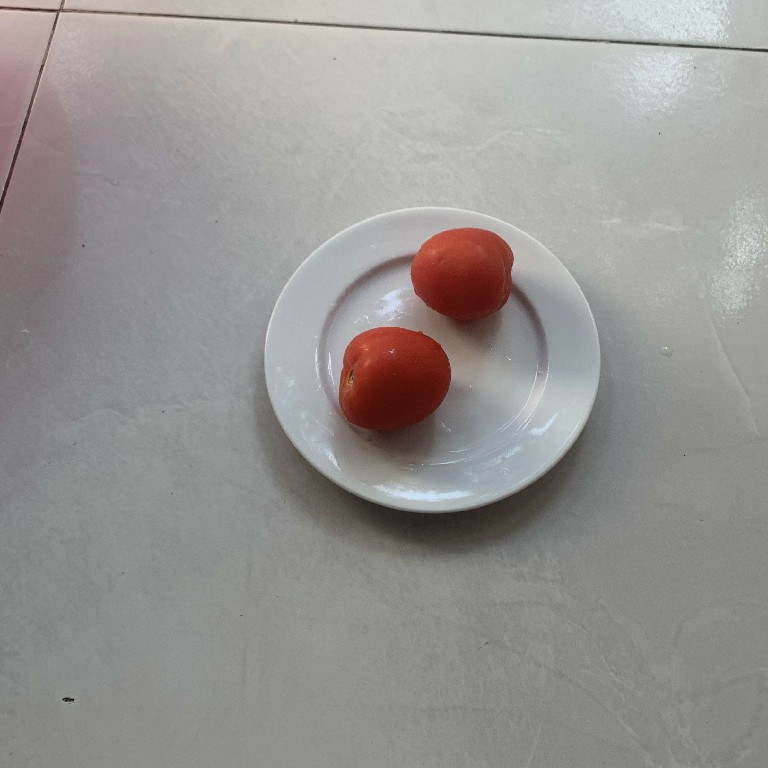OK: (334, 321, 451, 436), (404, 225, 516, 326)
